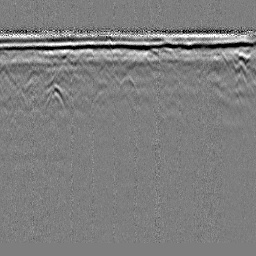cavity: (118, 73, 137, 90)
